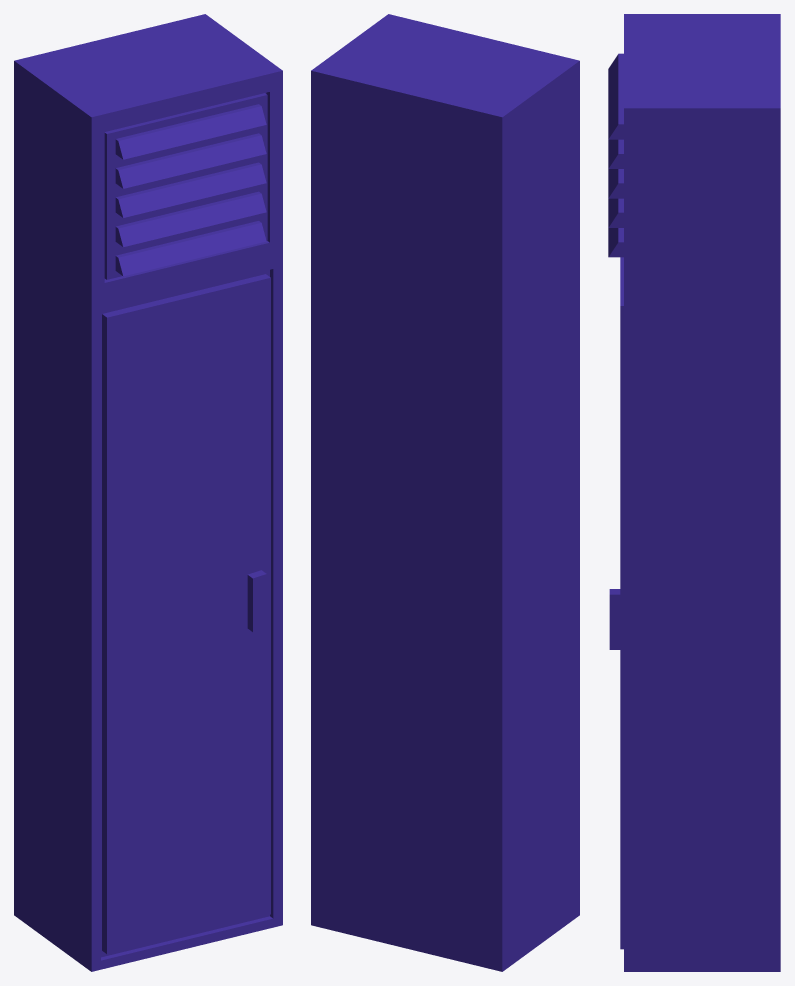
File: AG_Casilleros.fbx
3 views of the same model, side by side, from view 1: azimuth 30°, elevation 25°; view 2: azimuth 150°, elevation 25°; view 3: azimuth 270°, elevation 25° (orthographic).
Parts seen in each view (by area): view 1: Cube; view 2: Cube; view 3: Cube.
Boxes of the visible parts, x1=… form: Cube: x1=14, y1=14, x2=282, y2=971; Cube: x1=311, y1=14, x2=579, y2=971; Cube: x1=608, y1=14, x2=780, y2=971.
Bounding box in the file's own units: 200 × 853 × 154.
